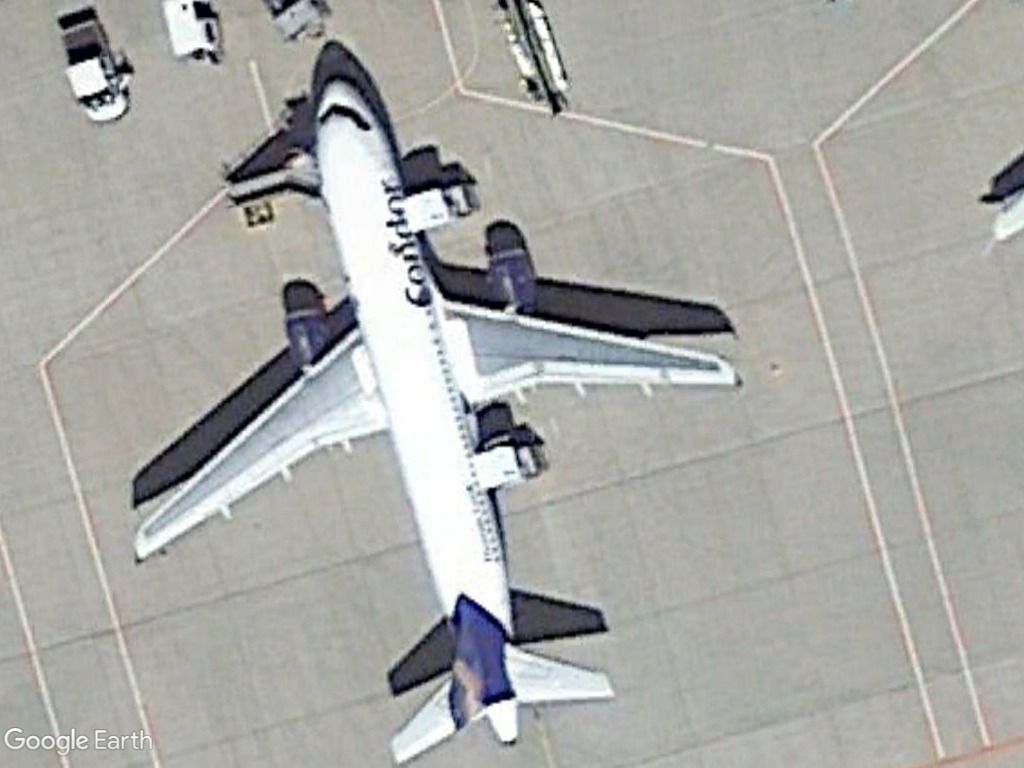airliner: (124, 62, 747, 768)
stairtruck: (223, 144, 316, 217)
